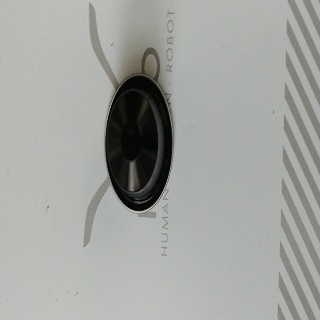capsule_10: (103, 72, 174, 214)
